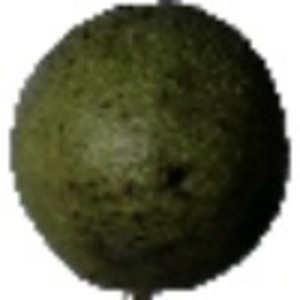abacate: (4, 1, 289, 289)
